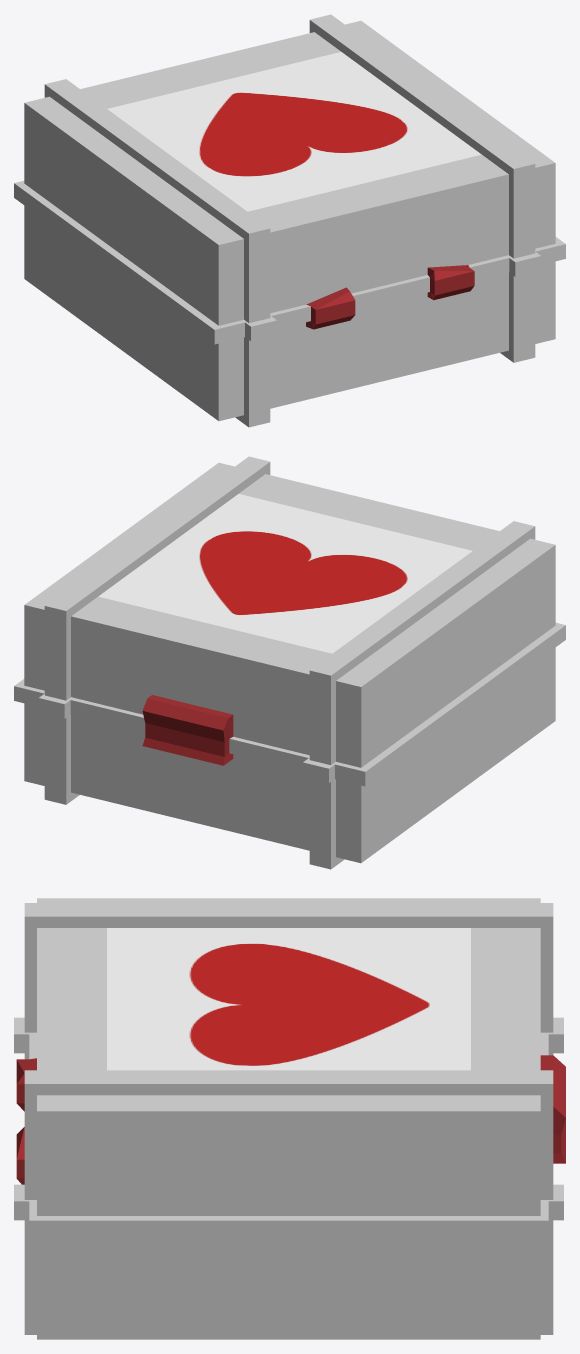
The model's file is MedKitLowPoly.fbx.
3 views of the same model, one above another, from view 1: azimuth 30°, elevation 25°; view 2: azimuth 150°, elevation 25°; view 3: azimuth 270°, elevation 25° (orthographic). The views are drawn at different scales.
Parts seen in each view (by area): view 1: Cube; view 2: Cube; view 3: Cube.
Boxes of the visible parts, left/top/right/bottom form: Cube: left=14, top=14, right=565, bottom=427; Cube: left=14, top=456, right=565, bottom=869; Cube: left=14, top=898, right=565, bottom=1339.
Size of the model in its own units: 417 by 220 by 438.
